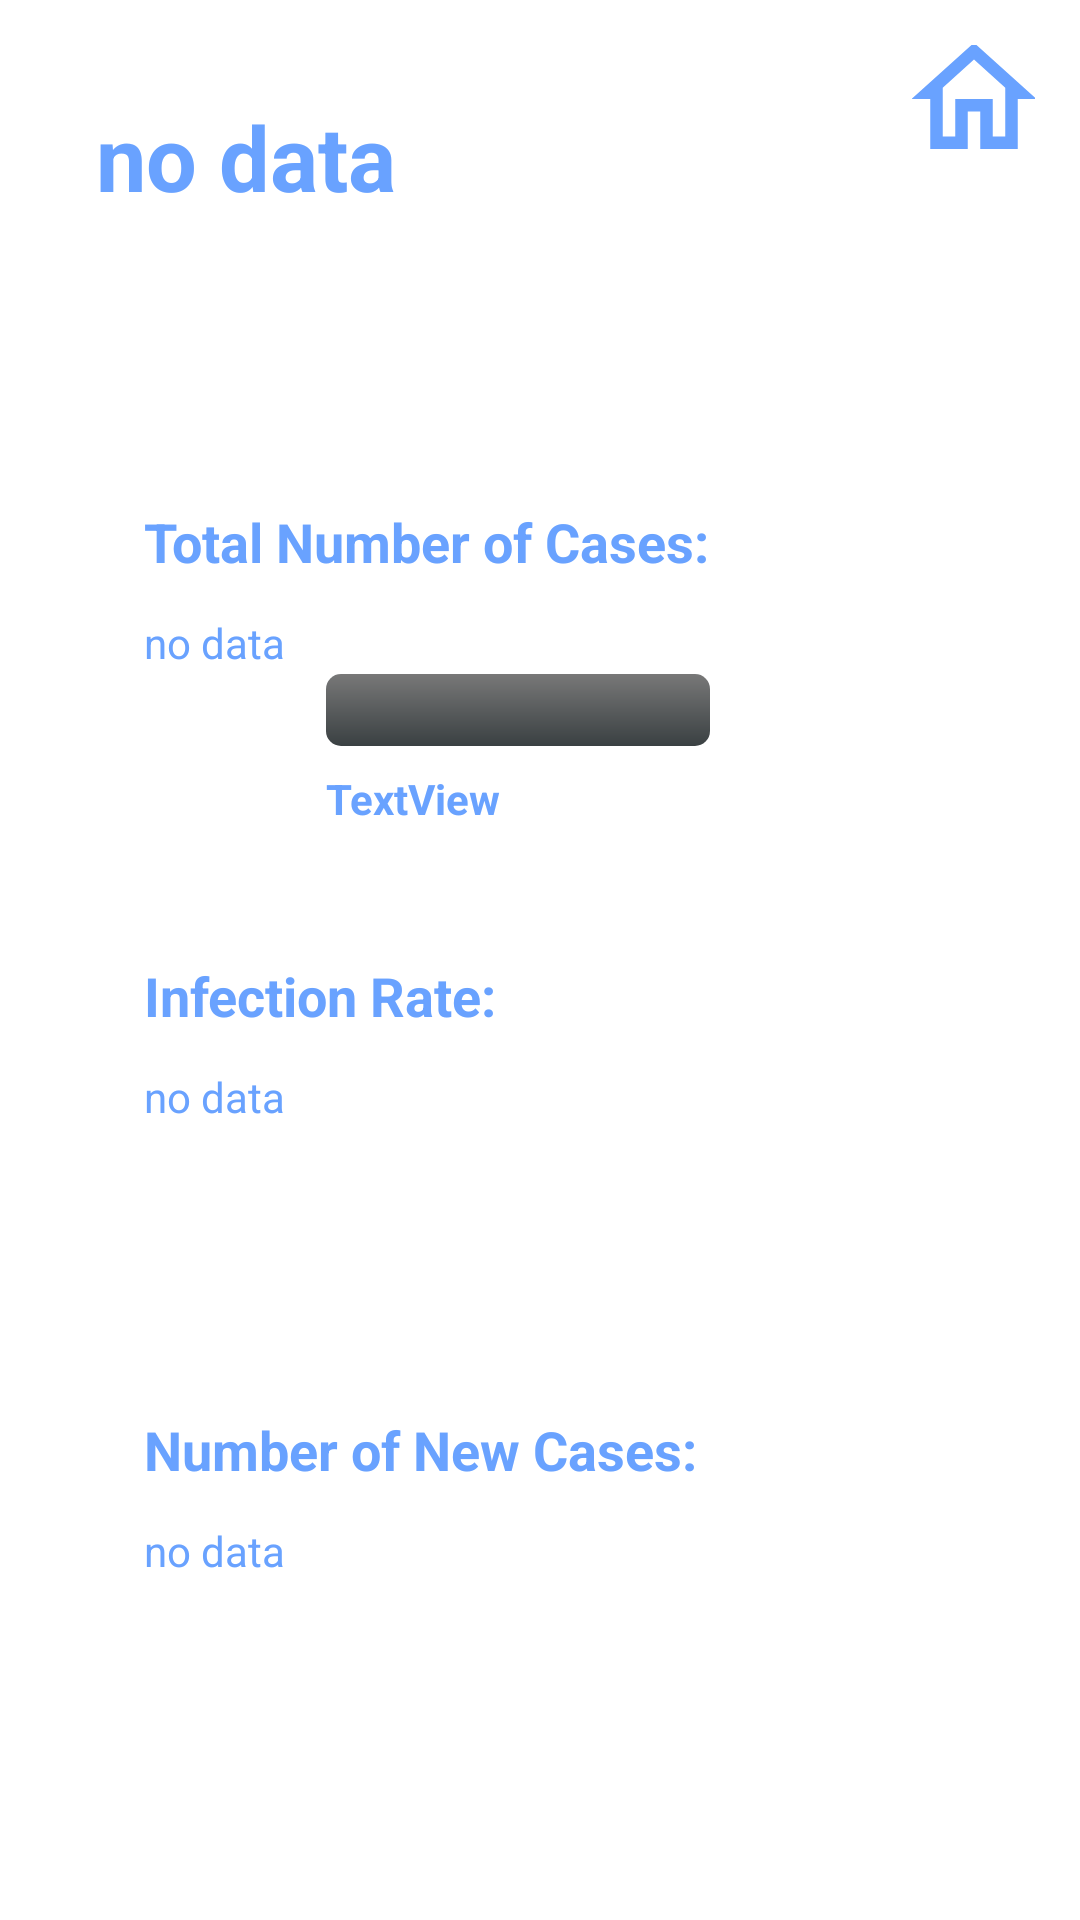

Icons on this 1080*1920 Android screen, each with its box as (x1, y1, x2, y2):
home: (912, 45, 1035, 149)
